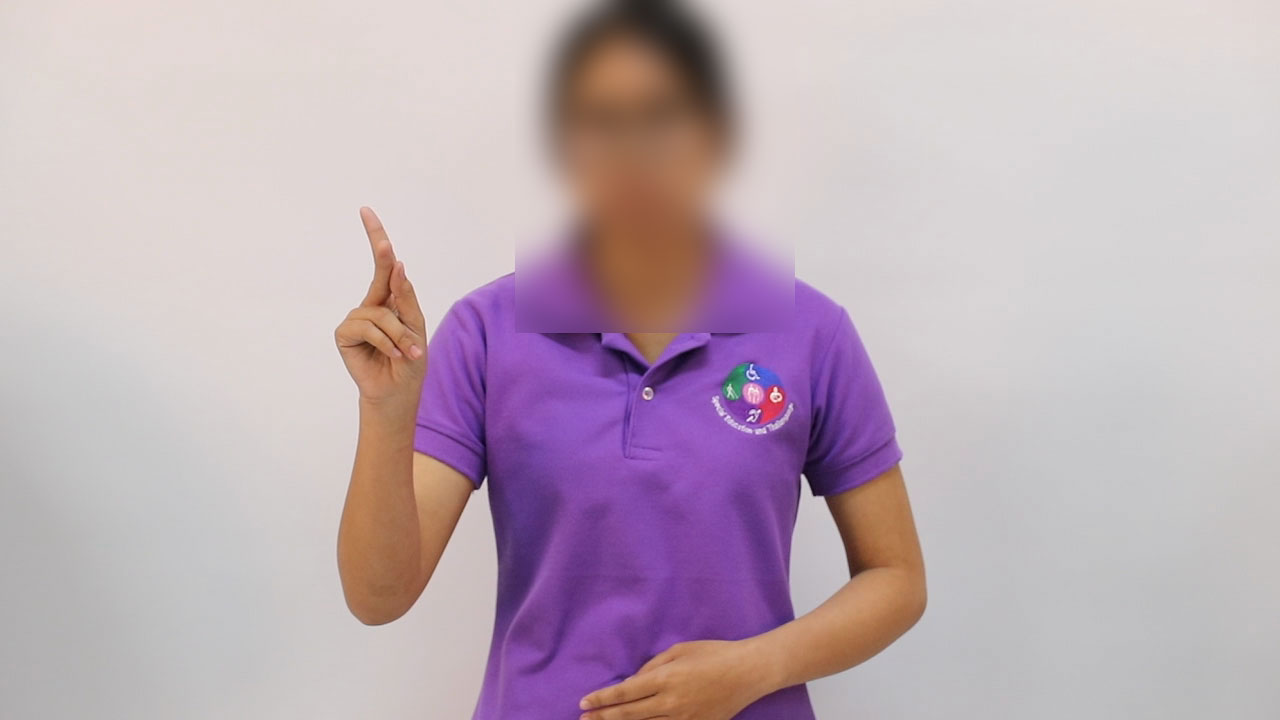ko: (313, 198, 448, 410)
